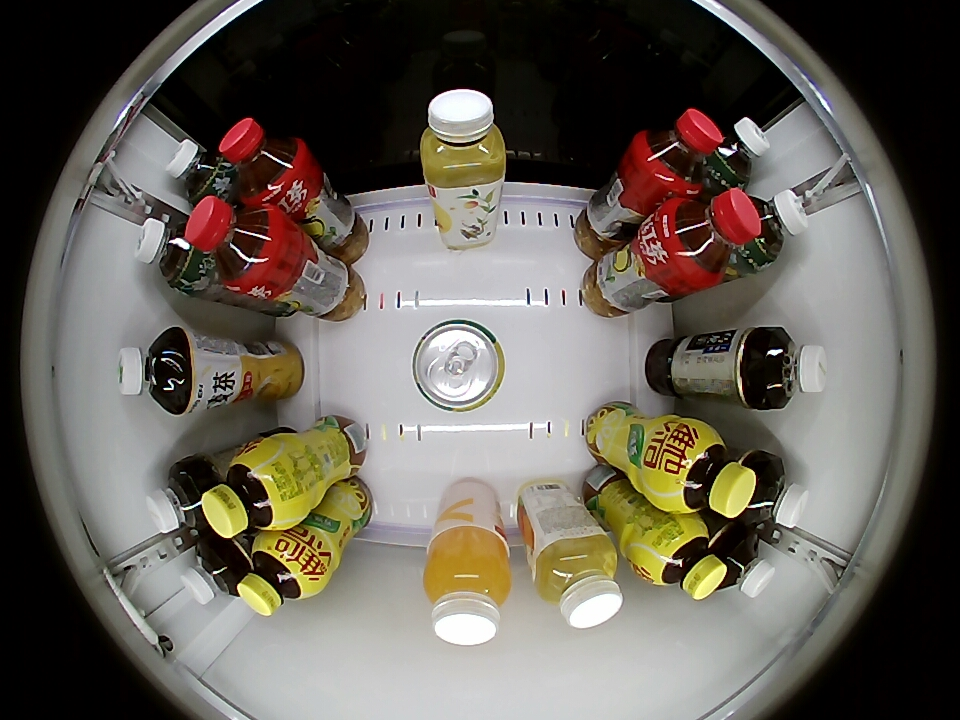binghongcha: (183, 194, 286, 298), (657, 188, 761, 288), (218, 116, 310, 206), (631, 108, 722, 195)
chapai2: (530, 533, 623, 629), (419, 89, 506, 189)
damaicha: (116, 327, 194, 415)
moliqingcha: (135, 215, 203, 292), (743, 189, 808, 266), (707, 117, 770, 188), (166, 138, 232, 204)
weic: (423, 526, 512, 646)
weitaningmeng-bottle: (657, 424, 758, 518), (201, 443, 297, 539), (636, 517, 726, 601), (237, 534, 321, 617)
wulongcha: (750, 327, 829, 410), (743, 455, 810, 530), (146, 461, 210, 534), (181, 538, 245, 605), (716, 528, 776, 598)
xuebi2: (411, 319, 507, 412)
